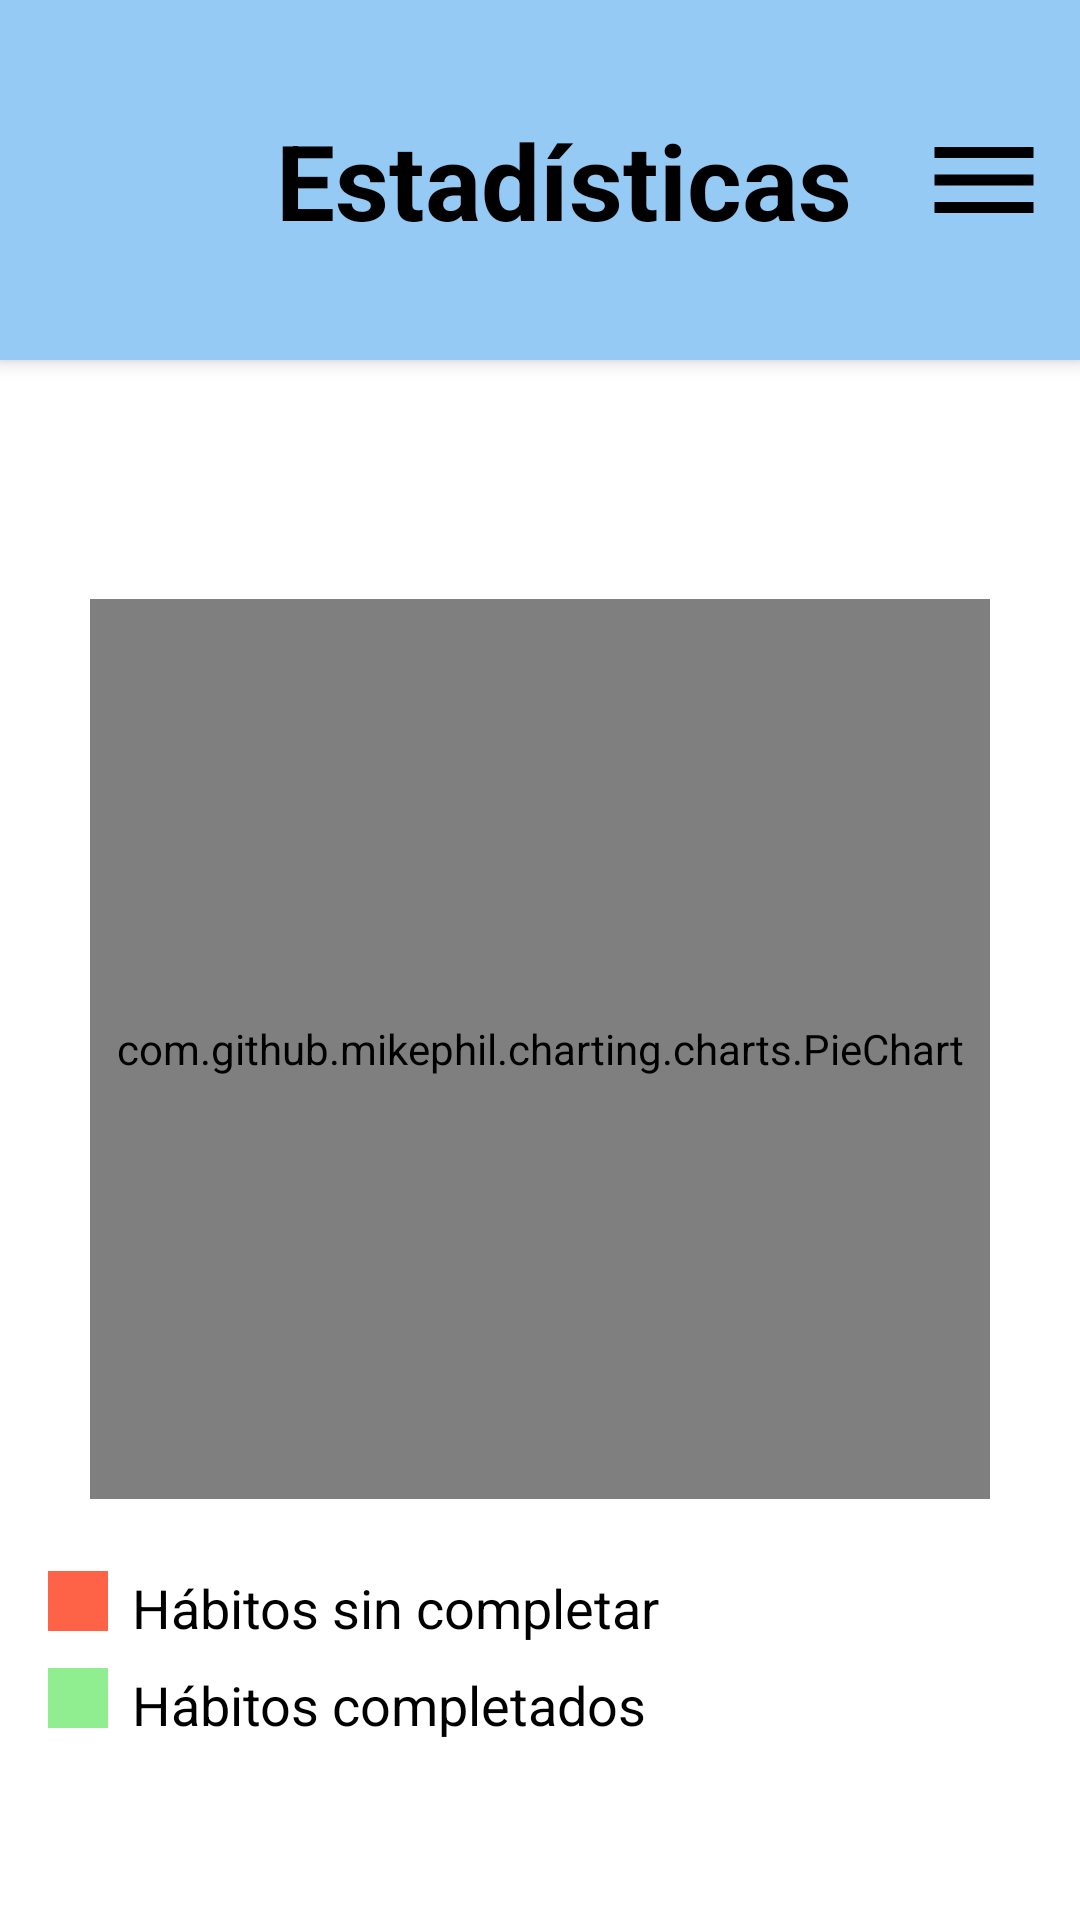

Screen size 1080 x 1920. Icon name, then its box in pixels as (x1, y1, x2, y2):
Menú: (934, 147, 1034, 213)
